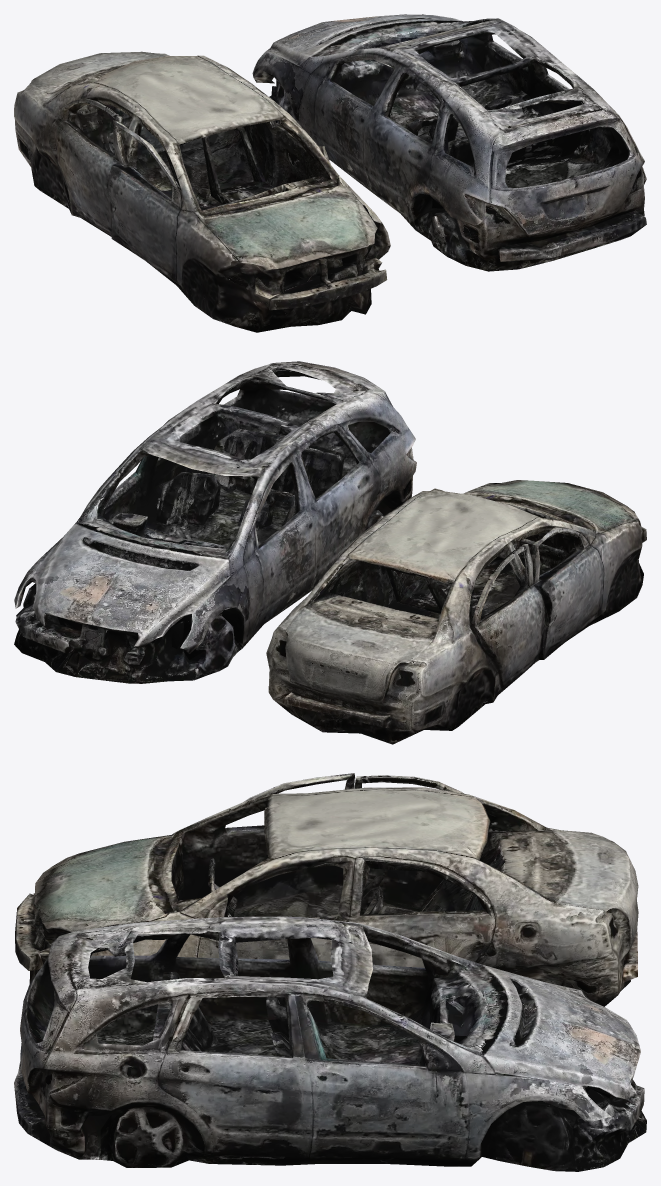
Rendered from burnt-car-b.glb.
The picture shows the model from 3 angles, top to bottom: view 1: azimuth 30°, elevation 25°; view 2: azimuth 150°, elevation 25°; view 3: azimuth 270°, elevation 25°; orthographic projection. The views are drawn at different scales.
Visible parts, largest first — view 1: default002_Material #26_0, default001_Material #25_0; view 2: default001_Material #25_0, default002_Material #26_0; view 3: default001_Material #25_0, default002_Material #26_0.
Part boxes in pixels (<box>): default002_Material #26_0: <box>14,51,390,332</box>; default001_Material #25_0: <box>252,14,646,271</box>; default001_Material #25_0: <box>14,361,416,683</box>; default002_Material #26_0: <box>266,480,646,744</box>; default001_Material #25_0: <box>14,916,646,1171</box>; default002_Material #26_0: <box>15,773,638,1006</box>.
Size of the model in its own units: 282 by 86.62 by 295.
Materials: 2 (2 with a texture image).
